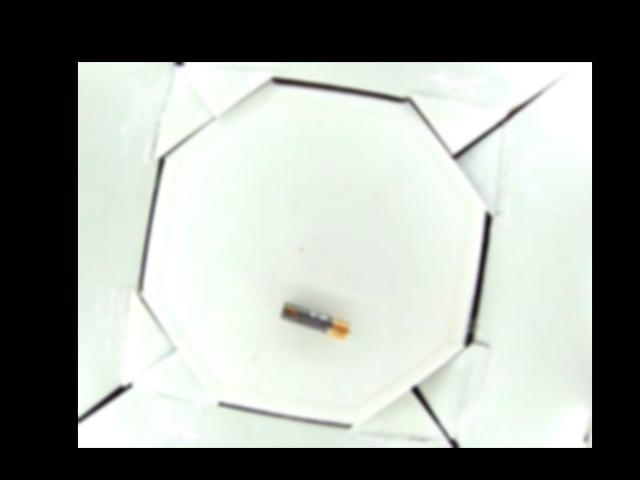Battery: (277, 301, 352, 340)
